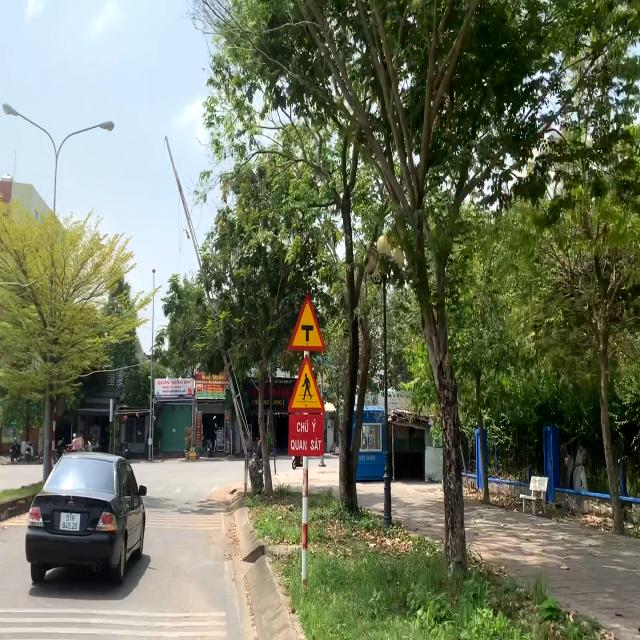W.205d: (287, 292, 327, 355)
W.224: (286, 353, 327, 417)
